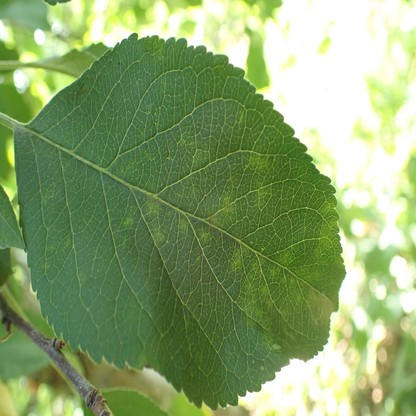scab: (317, 193, 345, 293), (271, 250, 302, 338), (245, 261, 274, 349), (307, 288, 332, 329), (208, 193, 238, 227), (230, 246, 247, 270), (255, 183, 271, 207), (138, 352, 158, 371), (144, 194, 159, 215), (248, 153, 268, 168), (199, 227, 211, 246), (151, 228, 163, 245), (236, 111, 246, 127), (179, 217, 187, 232), (122, 217, 134, 226)
